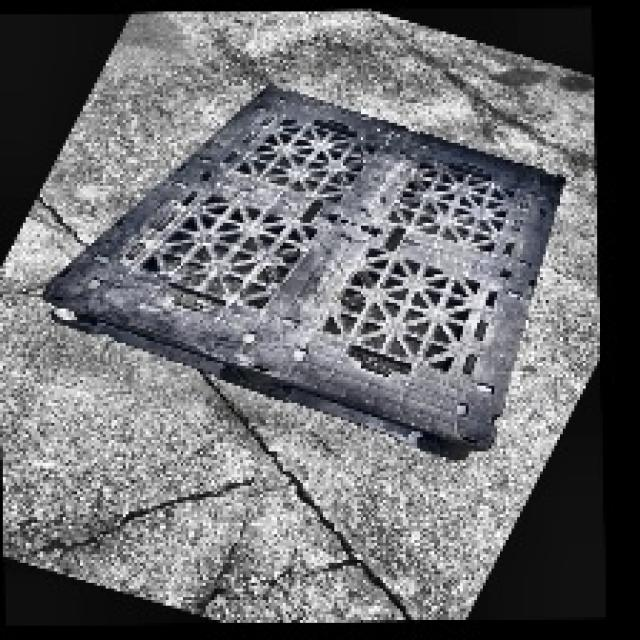igps: (34, 79, 572, 467)
